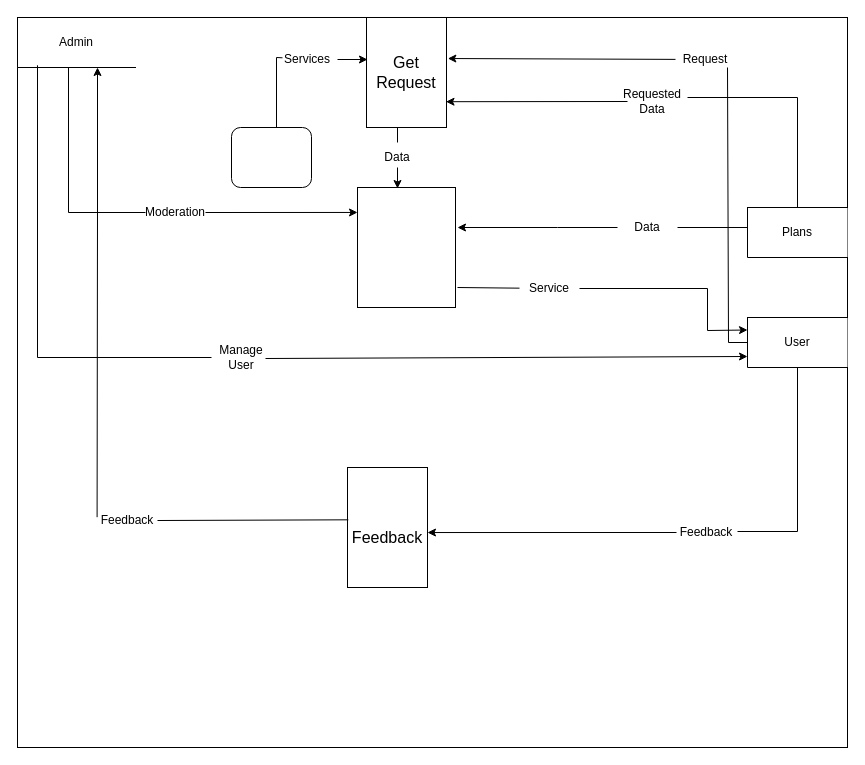
The diagram is 865 pixels wide and 765 high, and some of its shapes have lost their labels. The shapes that lost their labels are listed below. From the top down, each one's centre as x and y in pixels, then its label:
At point 271,157: "List Of Services".
At point 406,247: "Confirm Booking".
